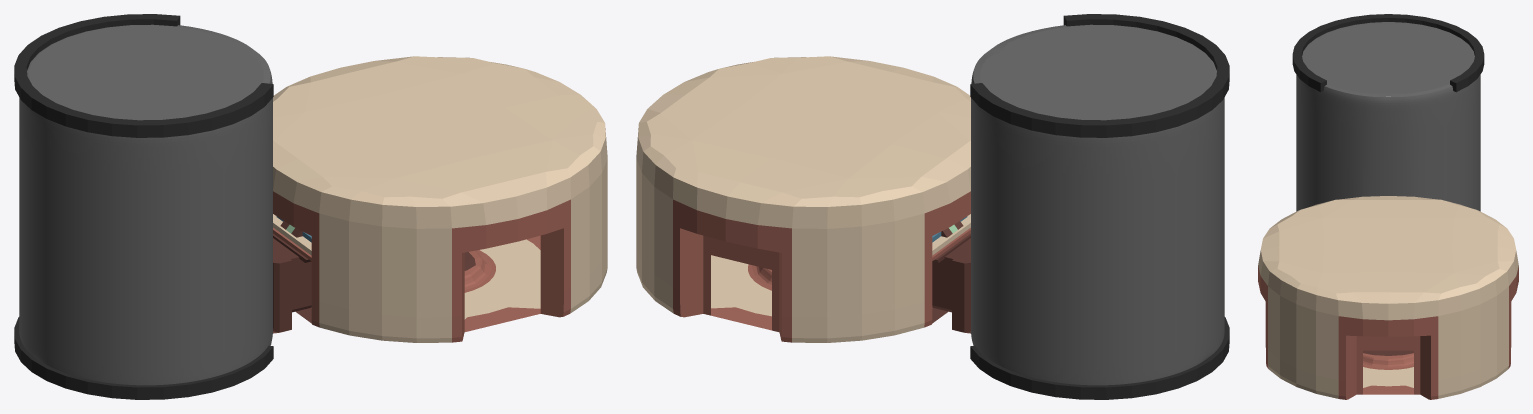
The model's file is Pipe_Straight.fbx.
The picture shows the model from 3 angles, left to right: view 1: azimuth 30°, elevation 25°; view 2: azimuth 150°, elevation 25°; view 3: azimuth 270°, elevation 25°; orthographic projection. The views are drawn at different scales.
Parts seen in each view (by area): view 1: Central Chamber, Ember Chamber Walls, Ember Chamber Floor, Rings, Hallway, Lintel; view 2: Central Chamber, Ember Chamber Walls, Ember Chamber Floor, Rings, Hallway, Lintel; view 3: Central Chamber, Ember Chamber Walls, Ember Chamber Floor, Rings.
Boxes of the visible parts, x1=… form: Central Chamber: x1=273, y1=56, x2=607, y2=342; Ember Chamber Walls: x1=19, y1=71, x2=272, y2=385; Ember Chamber Floor: x1=27, y1=24, x2=270, y2=345; Rings: x1=14, y1=14, x2=273, y2=399; Hallway: x1=273, y1=238, x2=311, y2=333; Lintel: x1=273, y1=214, x2=311, y2=262; Central Chamber: x1=636, y1=56, x2=970, y2=342; Ember Chamber Walls: x1=971, y1=71, x2=1224, y2=385; Ember Chamber Floor: x1=973, y1=24, x2=1216, y2=345; Rings: x1=970, y1=14, x2=1229, y2=399; Hallway: x1=932, y1=238, x2=970, y2=333; Lintel: x1=932, y1=214, x2=970, y2=262; Central Chamber: x1=1258, y1=196, x2=1518, y2=399; Ember Chamber Walls: x1=1296, y1=74, x2=1480, y2=211; Ember Chamber Floor: x1=1302, y1=22, x2=1474, y2=96; Rings: x1=1292, y1=14, x2=1484, y2=92.
Bounding box in the file's own units: 242 × 121 × 136.
